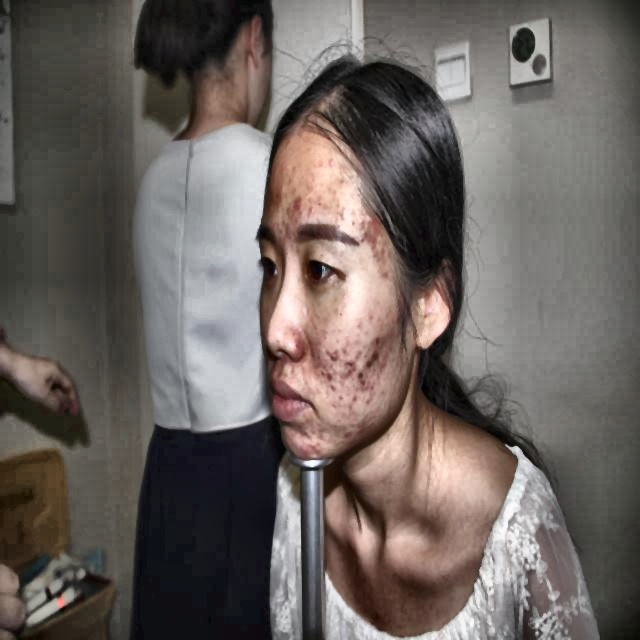nodule: (339, 200, 356, 239), (353, 408, 372, 436), (345, 353, 363, 382), (378, 255, 393, 288), (364, 340, 378, 372), (348, 225, 367, 248), (289, 192, 304, 220), (389, 304, 407, 327), (274, 156, 288, 182), (304, 424, 320, 444), (368, 328, 382, 349), (324, 364, 336, 387), (313, 434, 330, 449), (368, 234, 380, 254), (273, 180, 283, 203), (329, 382, 343, 397), (369, 212, 378, 234), (360, 376, 370, 394), (328, 350, 340, 364), (351, 384, 357, 406), (304, 452, 314, 462), (343, 428, 349, 440)
